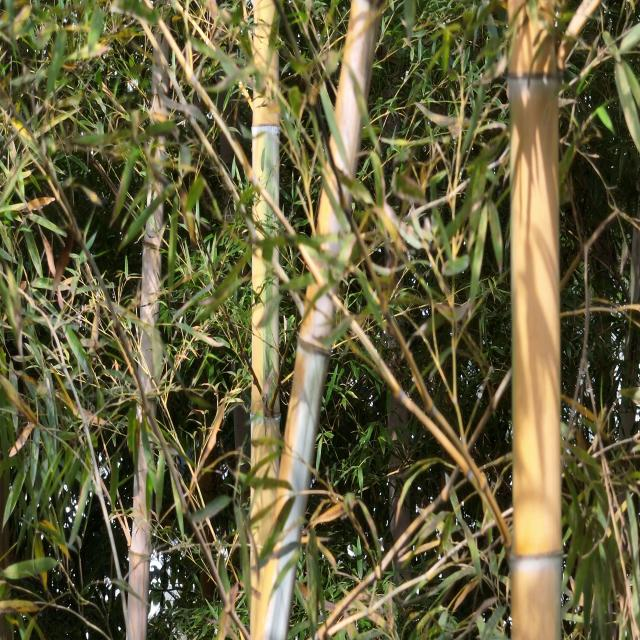Bamboo-shoots: (508, 0, 564, 640), (252, 0, 281, 640)
